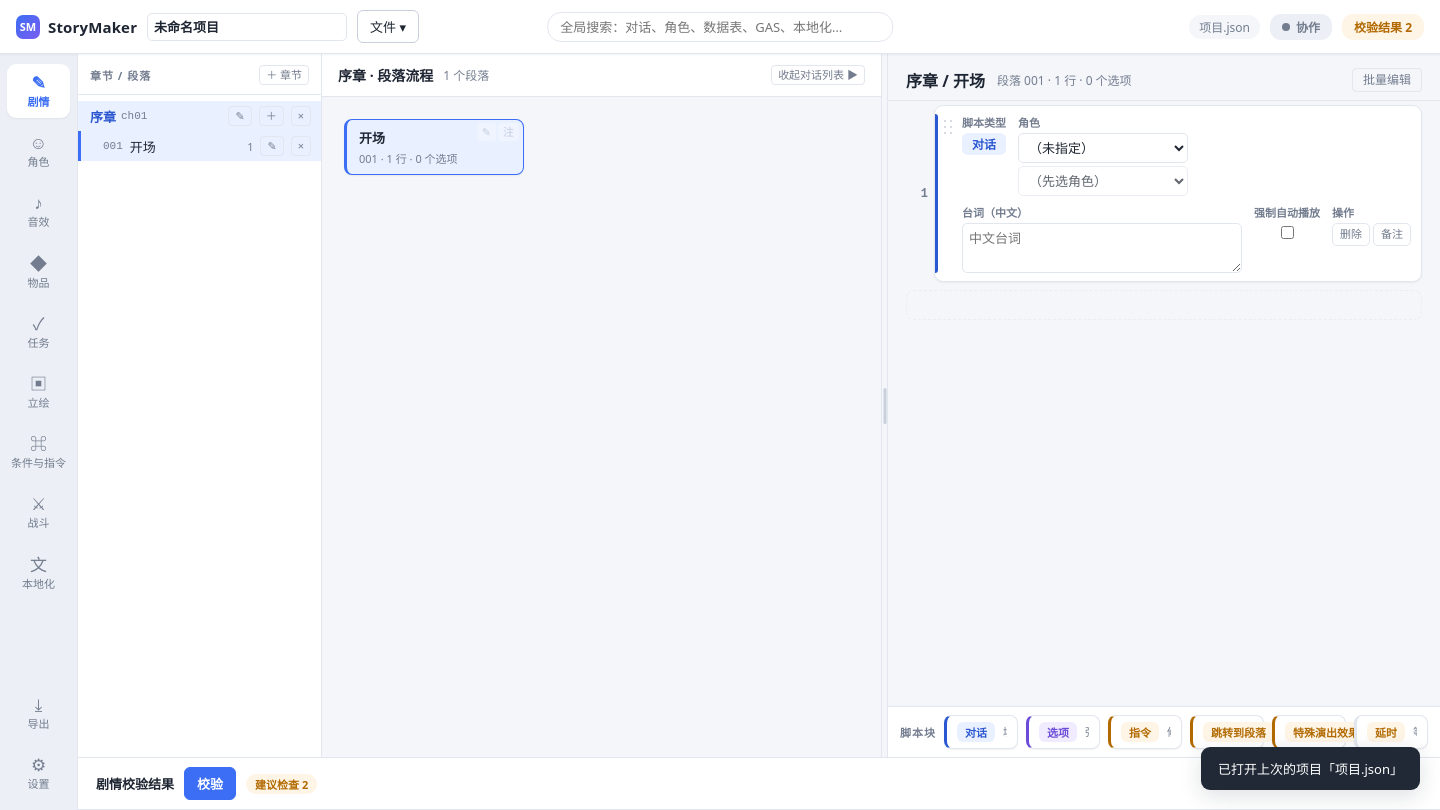
Test: 界面冒烟测试 › 删除章节走应用内确认框，不再用 window.confirm
Expected: the field titled "项目名称，也是导出文件名" is shown, [147,12,347,40]
Click the button titled "删除本章" next to "ch01". click: (301, 116)
box: [291,106,311,126]
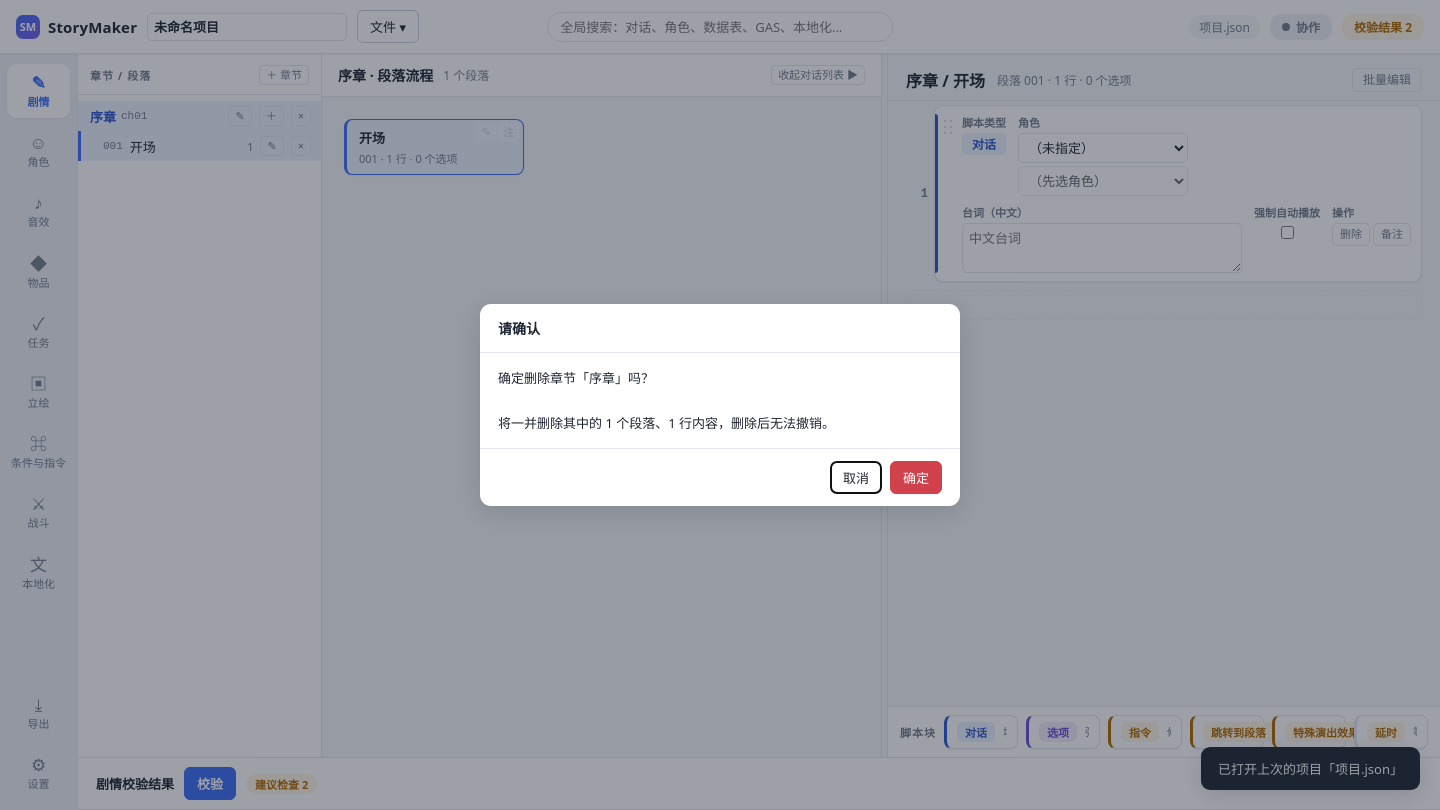
Result: the text "请确认" is shown at [480,304,960,353]
